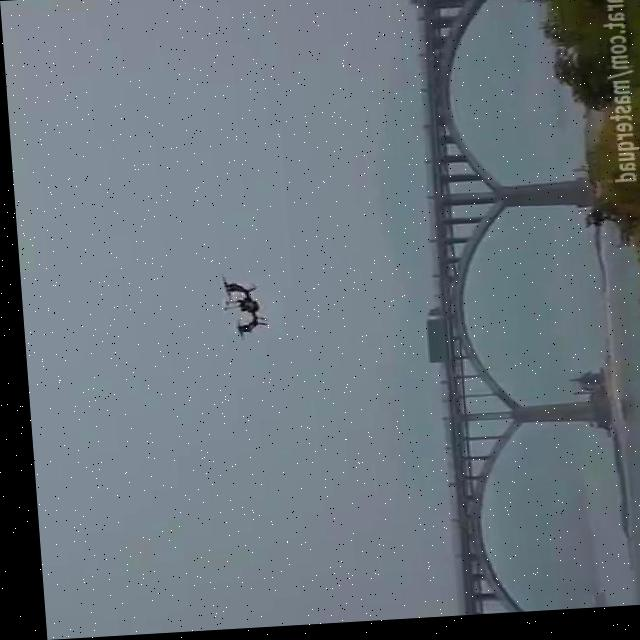drone: (207, 271, 266, 345)
